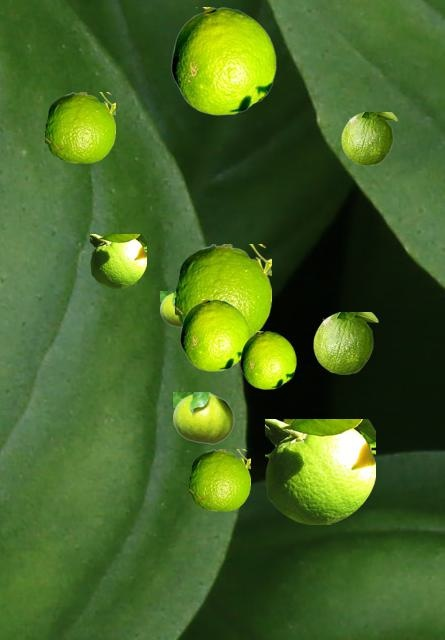dalandan: (265, 419, 374, 523), (171, 7, 275, 114), (175, 244, 270, 336), (180, 299, 249, 370), (45, 92, 114, 162), (313, 312, 377, 373), (189, 449, 249, 510), (240, 331, 295, 388), (173, 392, 233, 443), (90, 234, 145, 287), (341, 112, 396, 164), (160, 291, 180, 327)
